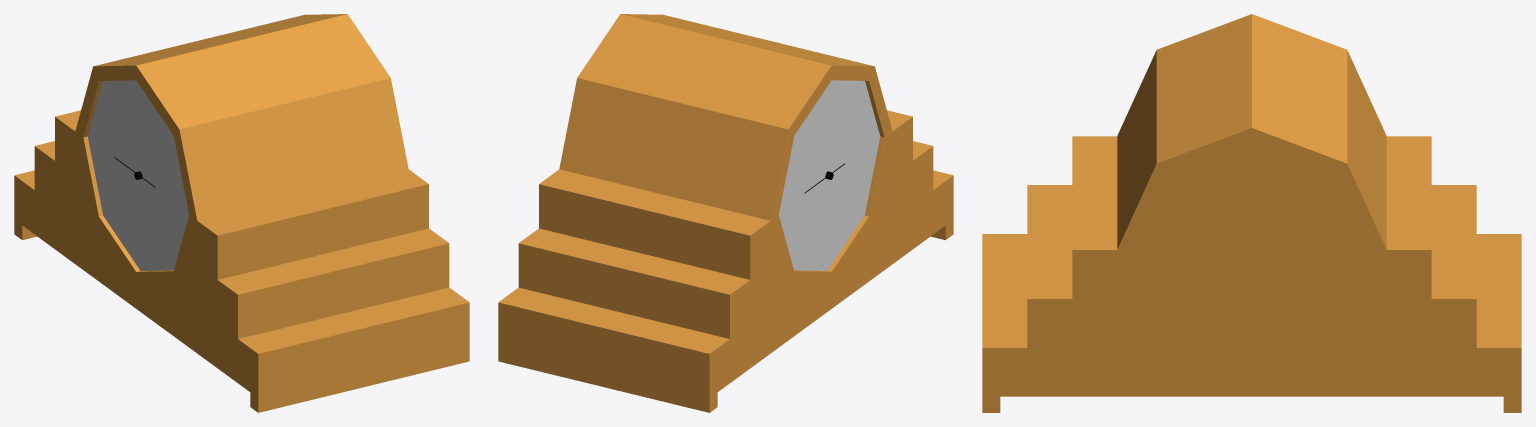
File: BookShelfClock.fbx
3 renders of one model, left to right at view 1: azimuth 30°, elevation 25°; view 2: azimuth 150°, elevation 25°; view 3: azimuth 270°, elevation 25°, orthographic. The views are drawn at different scales.
Parts seen in each view (by area): view 1: ClockStand, Cylinder.001; view 2: ClockStand, Cylinder.001; view 3: ClockStand.
Boxes of the visible parts, <box> form: ClockStand: <box>14,14,469,412</box>; Cylinder.001: <box>87,80,188,270</box>; ClockStand: <box>498,14,953,412</box>; Cylinder.001: <box>779,80,880,270</box>; ClockStand: <box>982,14,1521,412</box>.
Bounding box in the file's own units: 15 × 17.5 × 30.
